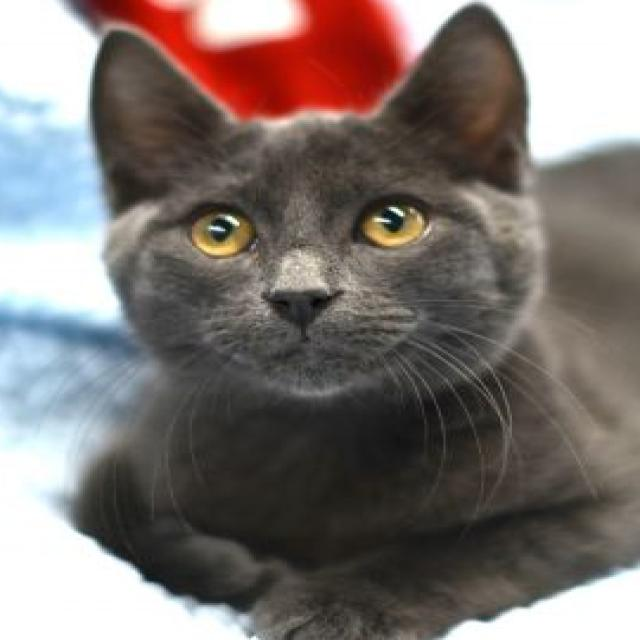Russian Blue: (59, 0, 640, 640)
